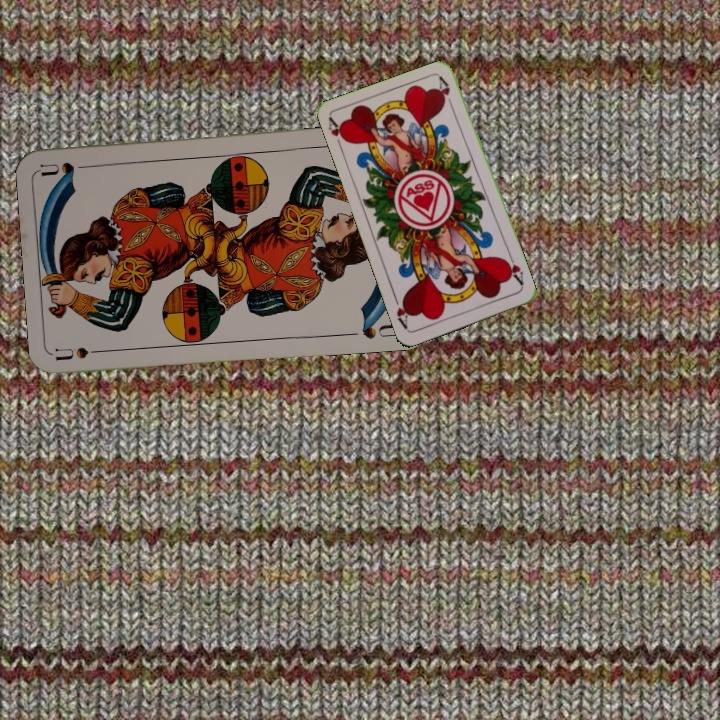HA: (324, 114, 350, 154), (500, 251, 526, 290)
SU: (53, 343, 113, 364)
